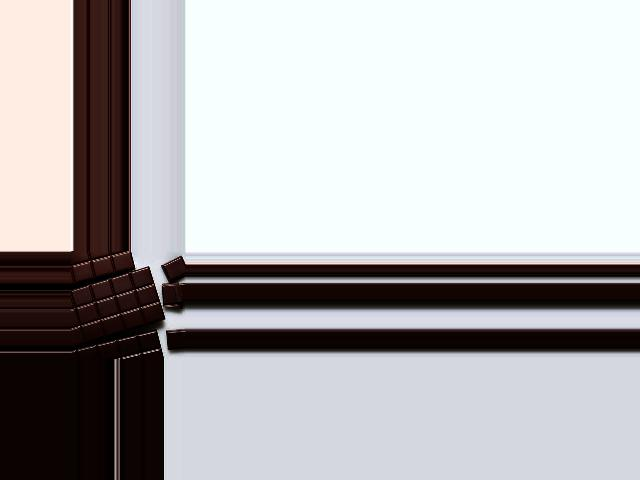chocolate: (69, 264, 163, 344)
